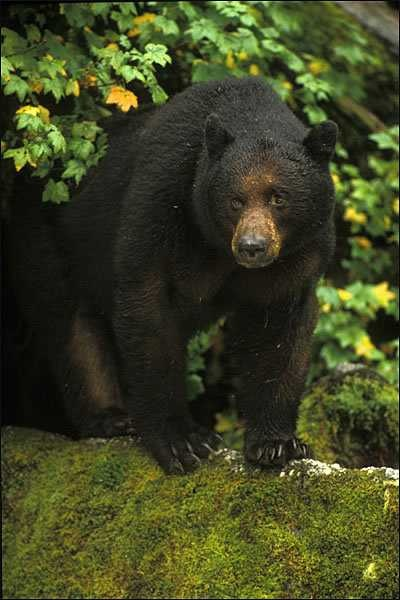bear: (200, 144, 329, 272)
